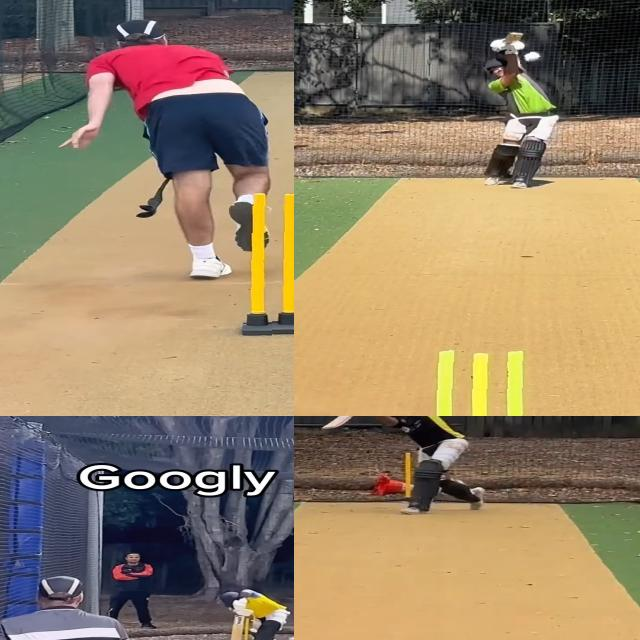Cricket ball: (520, 51, 546, 64), (288, 636, 294, 640)
Stumps: (415, 349, 550, 416), (243, 192, 294, 337)
